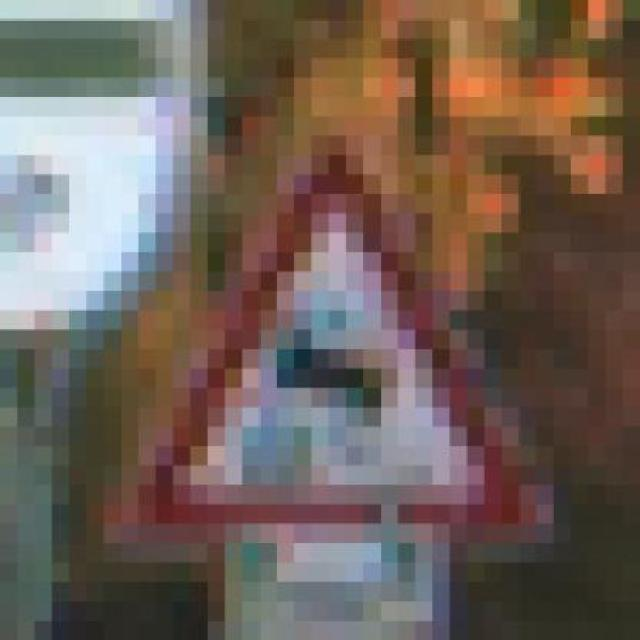Slippery Road Ahead: (120, 135, 572, 563)
